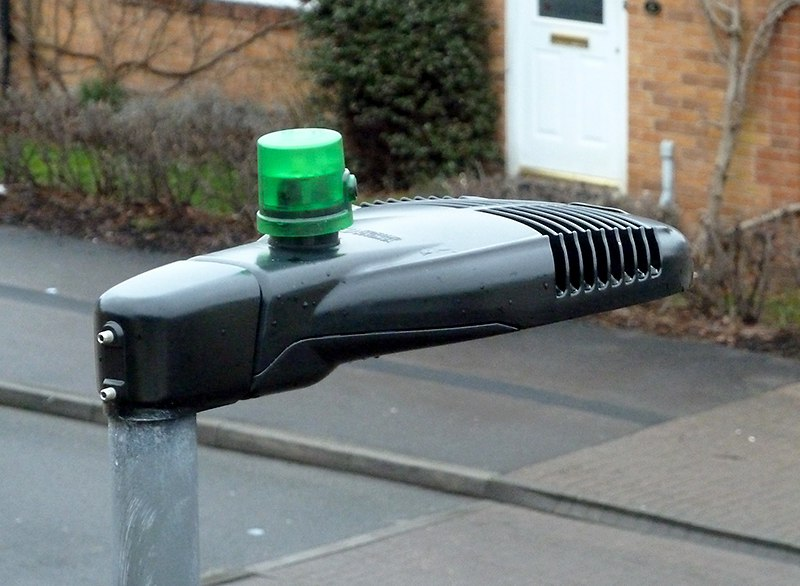Top_Street_Light: (86, 170, 728, 373)
